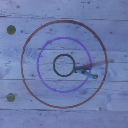Axe Tip: (80, 68, 90, 70)
